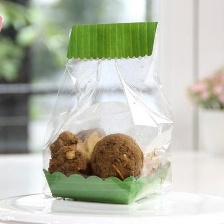snack: (36, 14, 182, 208)
